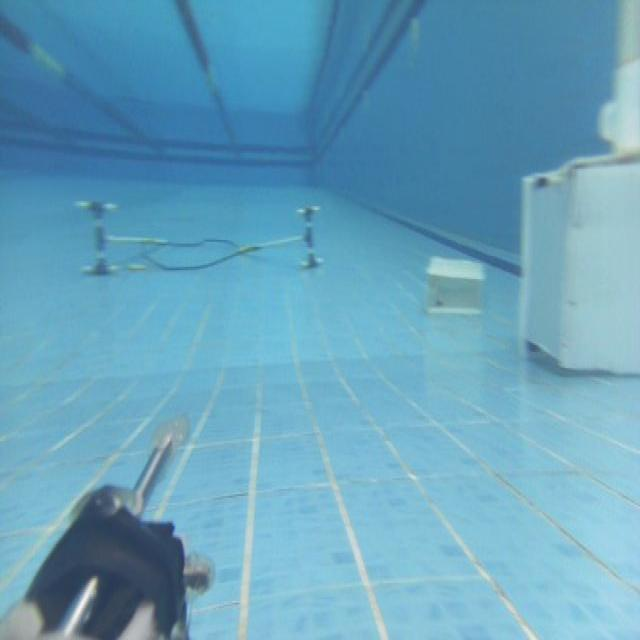Cube: (518, 147, 638, 377)
Cuboid: (424, 252, 485, 316)
